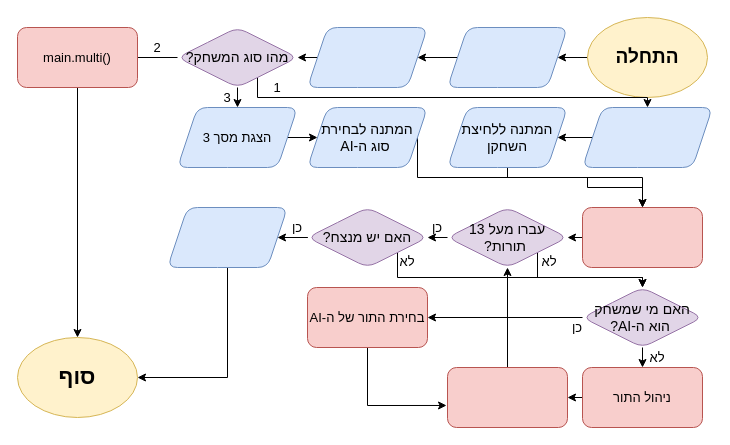
Image size: 730x445. Some labels were removed from this diagram. The centre of each missing label's shape, as x and y in pixels:
"החלפת התור לשחקן השני" goes at (507,397).
"הצגת המנצח" goes at (227,237).
"הצגת מסך 1" goes at (647,137).
"הצגת מסך הפתיחה" goes at (507,57).
"קליטת סוג המשחק" goes at (367,57).
"תחילת התור של השחקן הלבן" goes at (642,237).
